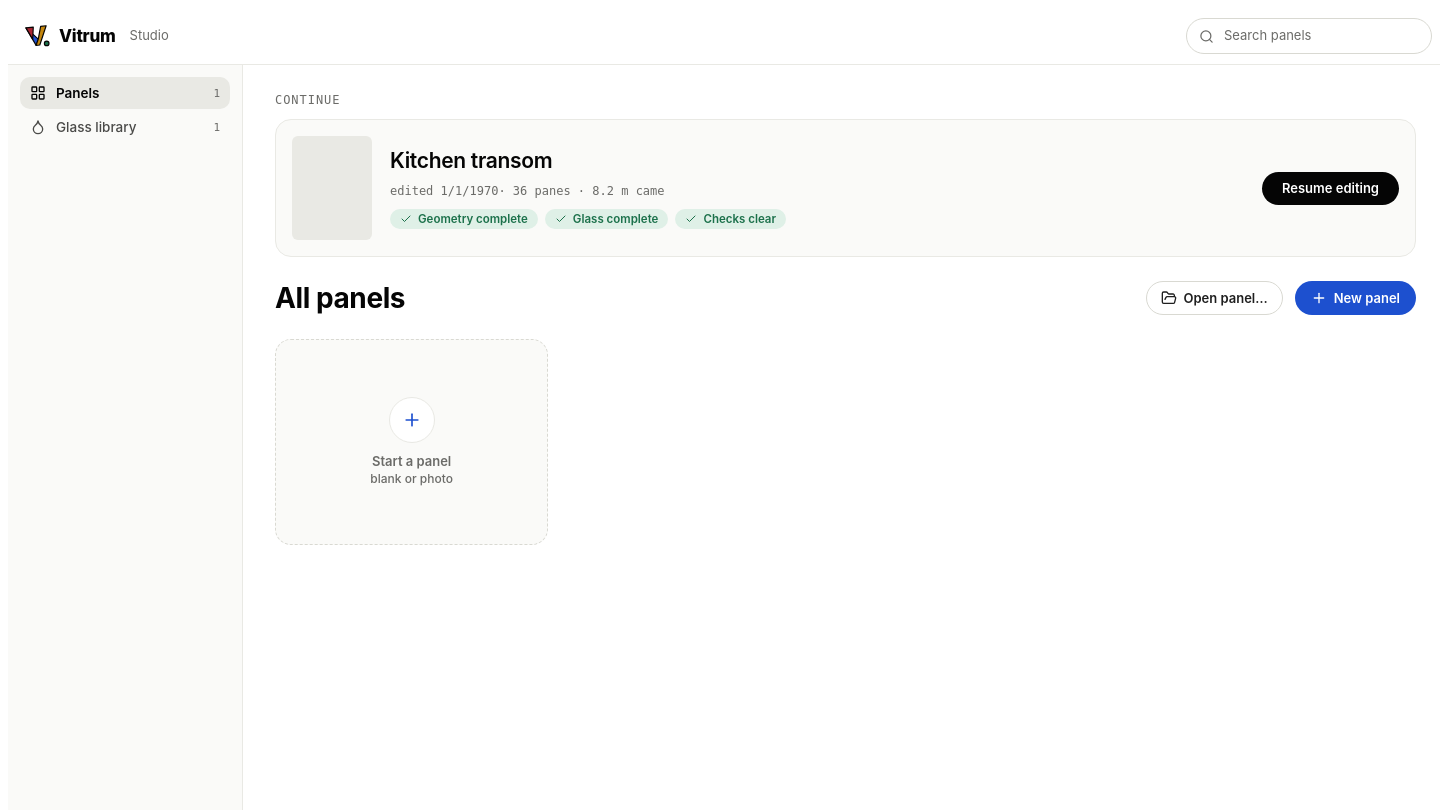
Scenario: LibraryScreen — rail navigation (FR-1) › swaps to the glass view and back, moving aria-current, with the panels state surviving
This screenshot has width=1440, height=810.
Expected: the button "Panels 1" is shown, [20,77,230,109]
Expected: the element "Continue" is shown, [275,93,1416,257]
Note: Click "Glass library": the content swaps and aria-current moves.
Click the button "Glass library 1". click: point(125, 127)
box: [20,111,230,143]
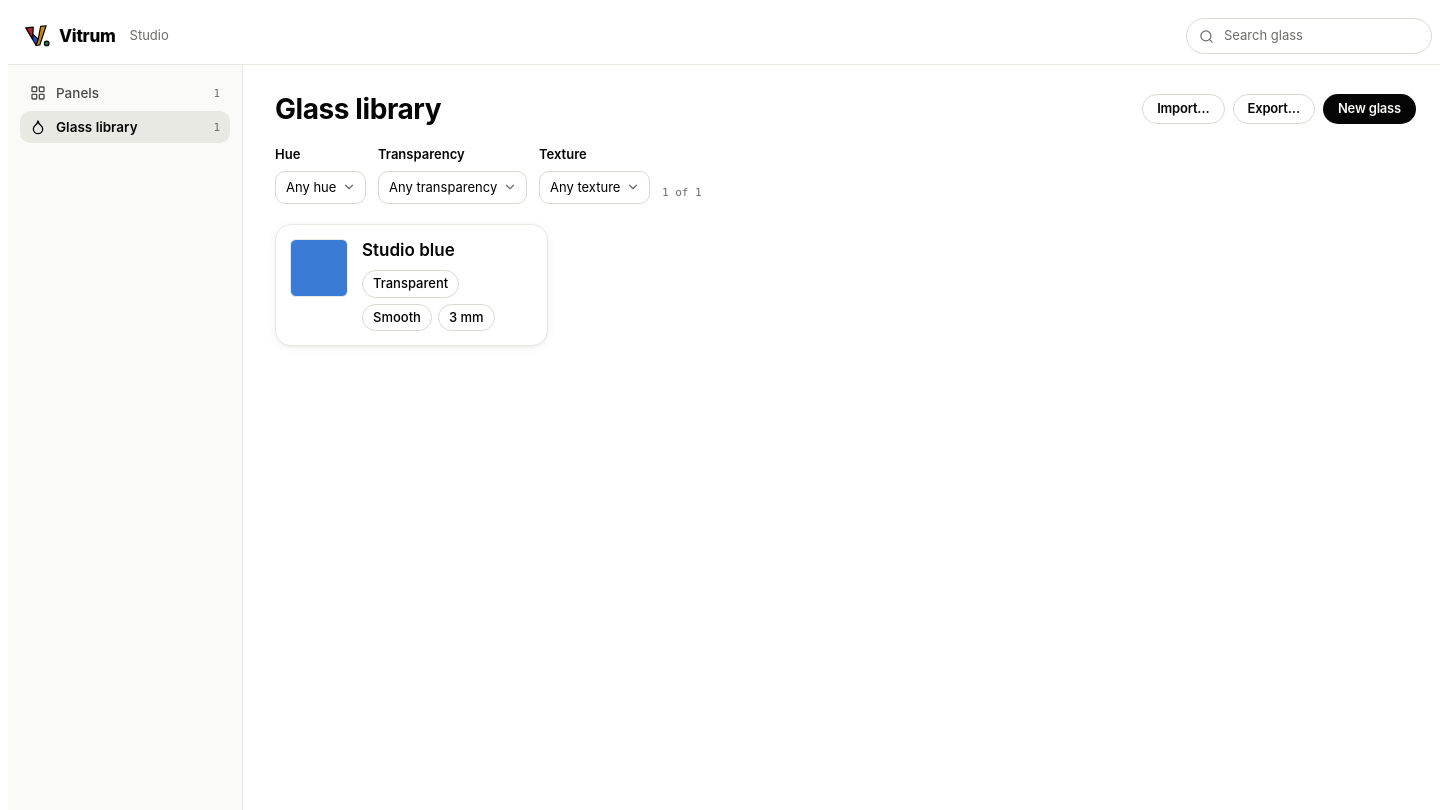
Expected: the element "Glass library" is shown, [275,93,1416,346]
Expected: the text "Studio blue" is shown, [362,240,455,260]
Expected: the text "Continue" is gone
Note: Click "Panels": the panels view returns with its hero intact (a round trip loses nothing).
Click the button "Panels 1". click: point(125, 93)
box: [20,77,230,109]
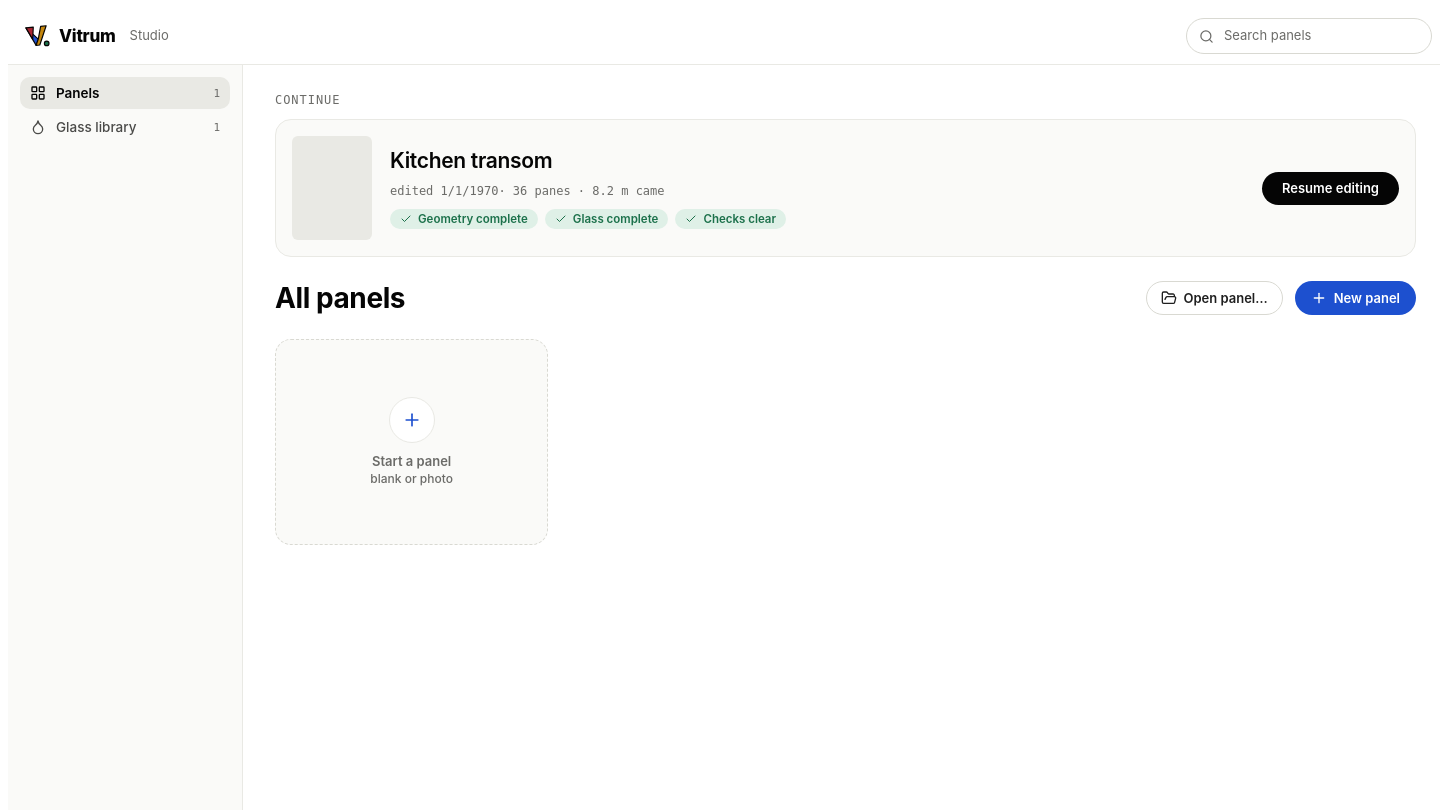
Expected: the element "Continue" is shown, [275,93,1416,257]
Expected: the search field labelled "Search panels" is shown, [1222,25,1419,47]
